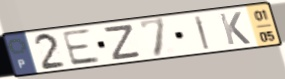2: (33, 31, 68, 71)
7: (138, 17, 169, 59)
E: (59, 27, 103, 68)
I: (193, 14, 212, 51)
K: (217, 11, 253, 47)
Z: (103, 22, 143, 62)
